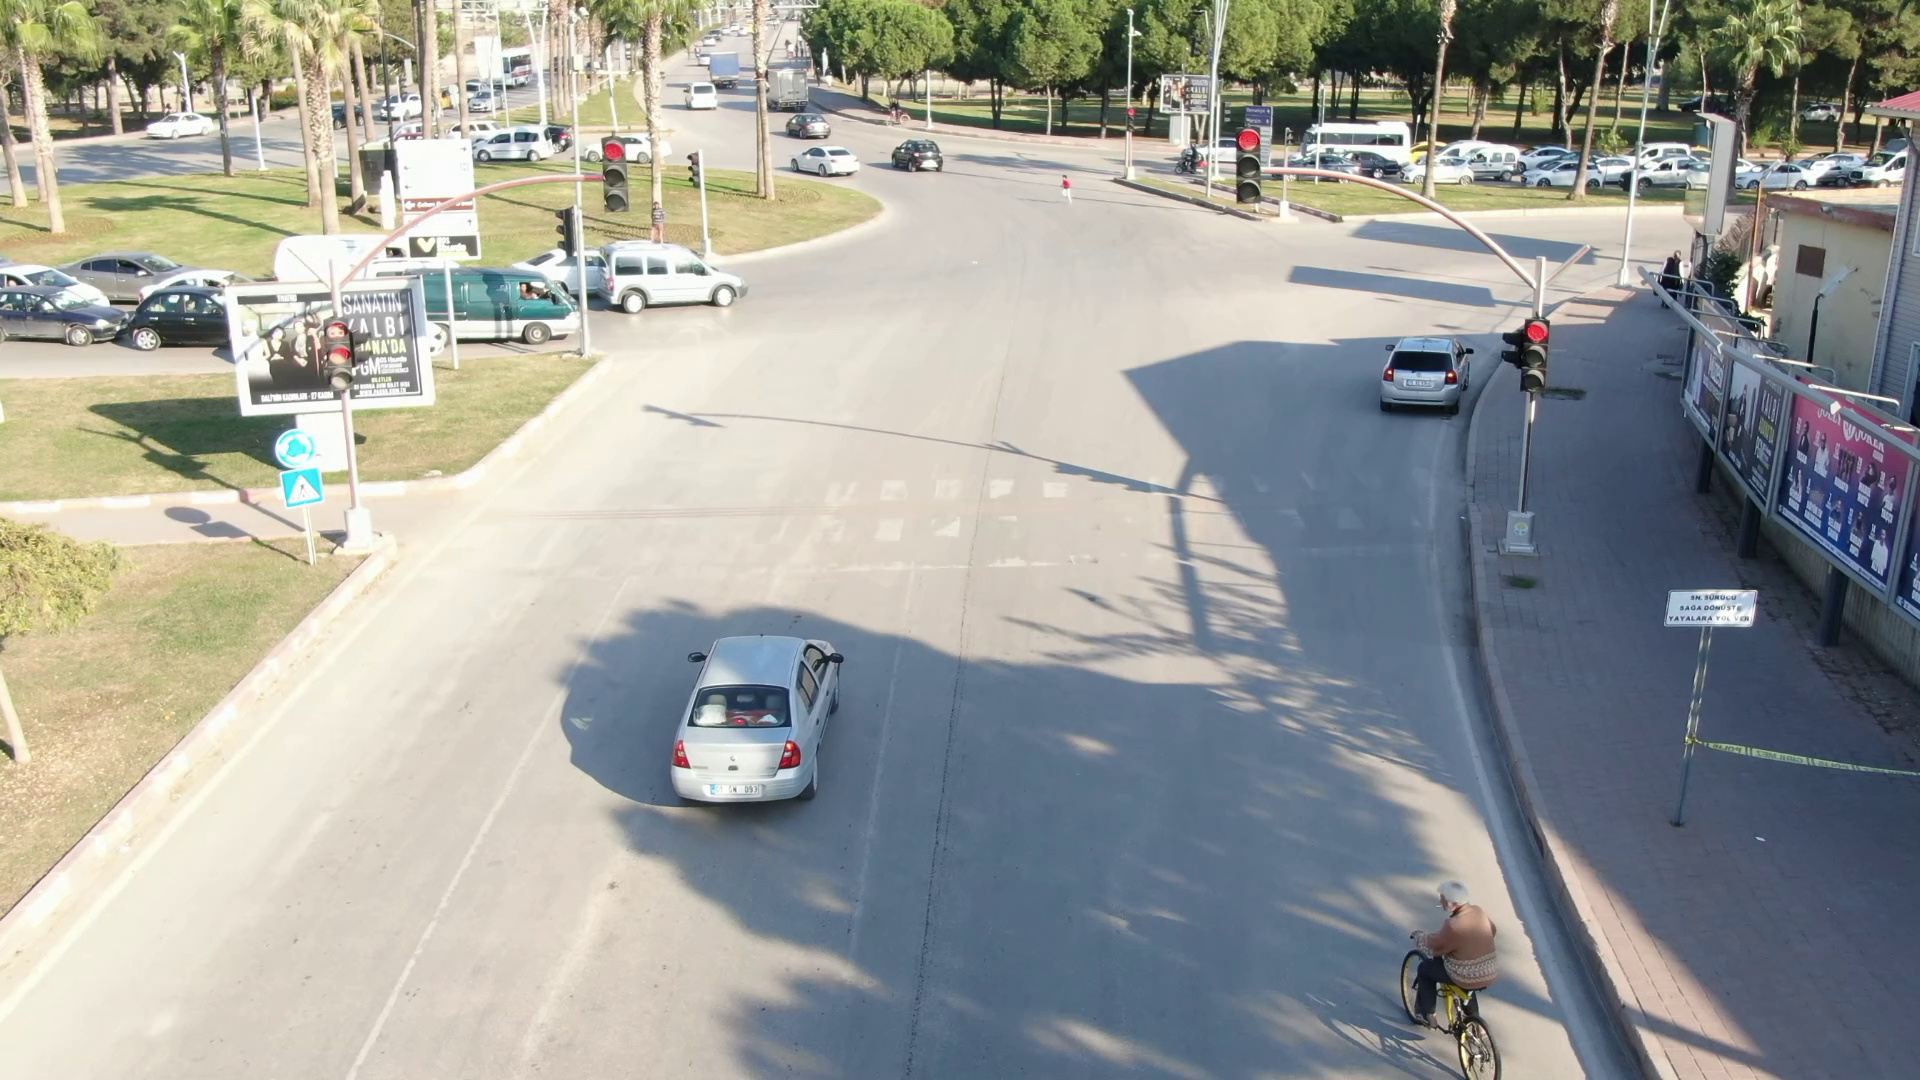car: (606, 595, 901, 832), (425, 252, 599, 360), (590, 232, 760, 326), (1356, 321, 1493, 430), (1, 263, 138, 360), (778, 139, 877, 200), (473, 115, 573, 162), (877, 132, 962, 186)
person: (1403, 865, 1506, 984)
